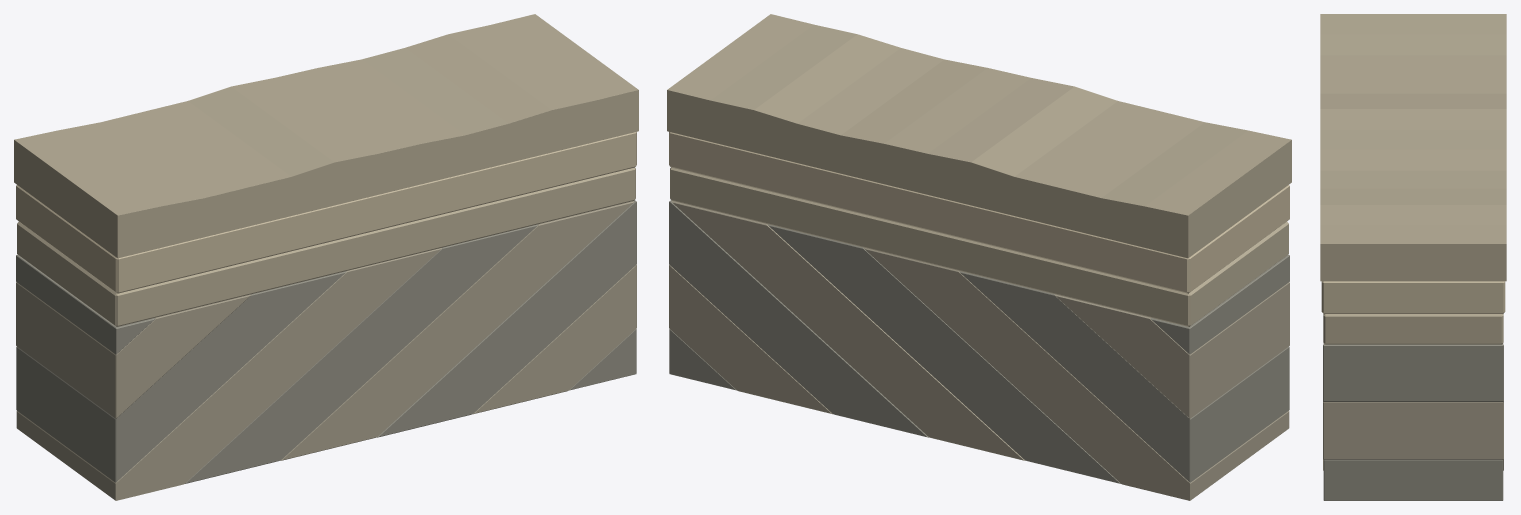
File: angular-unconformity-outcrop.glb
3 renders of one model, left to right at view 1: azimuth 30°, elevation 25°; view 2: azimuth 150°, elevation 25°; view 3: azimuth 270°, elevation 25°, orthographic. The views are drawn at different scales.
Parts seen in each view (by area): view 1: Younger near-horizontal cover bed 02, Younger near-horizontal cover bed 01, Younger near-horizontal cover bed 00, Older tilted bed 05, Older tilted bed 06, Older tilted bed 03, Older tilted bed 04, Older tilted bed 02, Older tilted bed 07, Older tilted bed 01, Older tilted bed 08, Older tilted bed 00; view 2: Younger near-horizontal cover bed 02, Younger near-horizontal cover bed 01, Younger near-horizontal cover bed 00, Older tilted bed 05, Older tilted bed 06, Older tilted bed 03, Older tilted bed 04, Older tilted bed 02, Older tilted bed 07, Older tilted bed 01, Older tilted bed 08, Older tilted bed 00; view 3: Younger near-horizontal cover bed 02, Older tilted bed 01, Older tilted bed 02, Older tilted bed 00, Younger near-horizontal cover bed 01, Younger near-horizontal cover bed 00.
Part boxes in pixels (x1,y1,x2,y2): Younger near-horizontal cover bed 02: [14, 14, 638, 258]; Younger near-horizontal cover bed 01: [16, 132, 636, 293]; Younger near-horizontal cover bed 00: [17, 167, 635, 326]; Older tilted bed 05: [16, 248, 441, 500]; Older tilted bed 06: [16, 271, 346, 482]; Older tilted bed 03: [280, 201, 634, 460]; Older tilted bed 04: [185, 224, 537, 483]; Older tilted bed 02: [377, 200, 636, 437]; Older tilted bed 07: [16, 282, 251, 418]; Older tilted bed 01: [473, 264, 636, 414]; Older tilted bed 08: [16, 254, 155, 354]; Older tilted bed 00: [569, 329, 636, 390]; Younger near-horizontal cover bed 02: [667, 14, 1291, 258]; Younger near-horizontal cover bed 01: [669, 132, 1289, 293]; Younger near-horizontal cover bed 00: [670, 167, 1288, 326]; Older tilted bed 05: [864, 248, 1289, 500]; Older tilted bed 06: [959, 271, 1289, 482]; Older tilted bed 03: [671, 201, 1025, 460]; Older tilted bed 04: [768, 224, 1120, 483]; Older tilted bed 02: [669, 200, 928, 437]; Older tilted bed 07: [1054, 282, 1289, 418]; Older tilted bed 01: [669, 264, 832, 414]; Older tilted bed 08: [1150, 254, 1289, 354]; Older tilted bed 00: [669, 329, 736, 390]; Younger near-horizontal cover bed 02: [1320, 14, 1506, 281]; Older tilted bed 01: [1323, 402, 1503, 470]; Older tilted bed 02: [1323, 344, 1503, 402]; Older tilted bed 00: [1323, 459, 1503, 500]; Younger near-horizontal cover bed 01: [1321, 281, 1505, 313]; Younger near-horizontal cover bed 00: [1323, 314, 1503, 344].
Size of the model in its own units: 0.85 by 0.4481 by 0.293.
